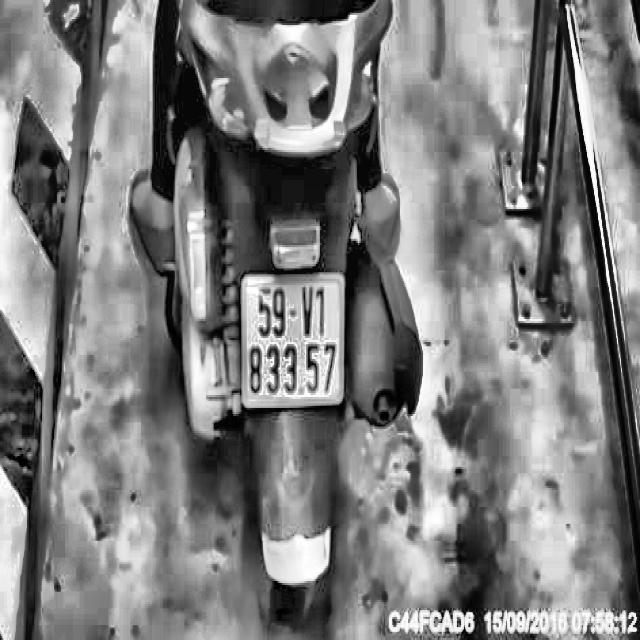plate: (238, 261, 348, 415)
